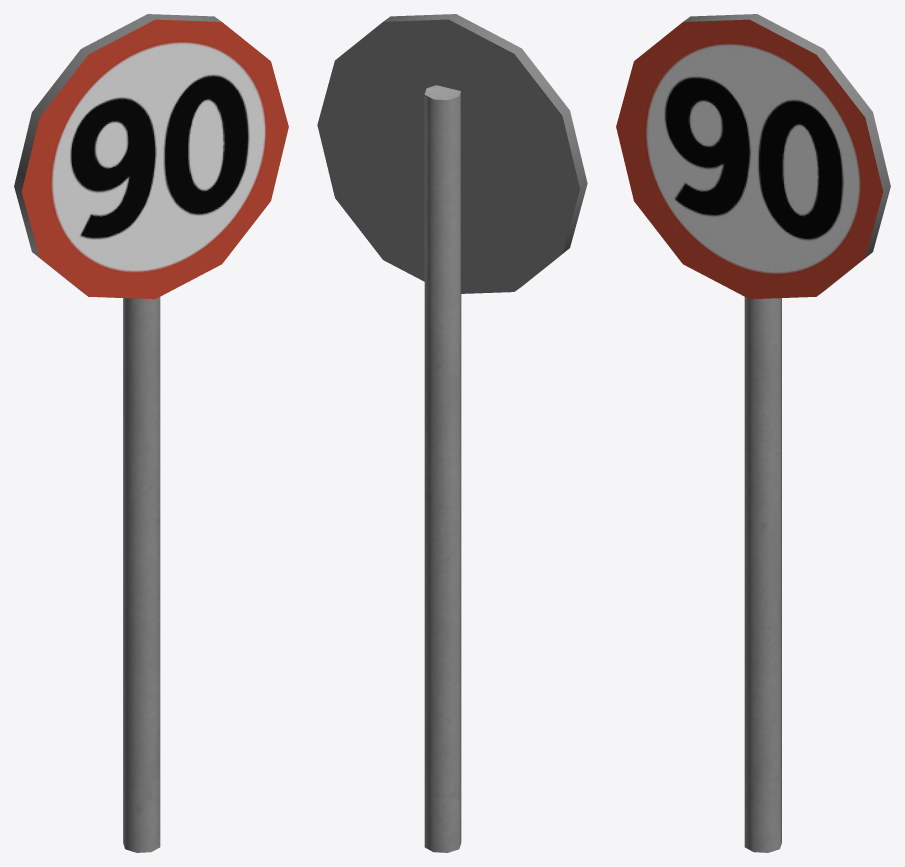
File: roadSignSpeed.fbx
3 views of the same model, side by side, from view 1: azimuth 30°, elevation 25°; view 2: azimuth 150°, elevation 25°; view 3: azimuth 330°, elevation 25° (orthographic).
Parts seen in each view (by area): view 1: roadSignSpeed; view 2: roadSignSpeed; view 3: roadSignSpeed.
Boxes of the visible parts, box(x1,y1,x2,y2) form: roadSignSpeed: box(14, 14, 288, 852); roadSignSpeed: box(317, 14, 587, 852); roadSignSpeed: box(616, 14, 890, 852).
Bounding box in the file's own units: 20.54 × 3.09 × 61.34.
